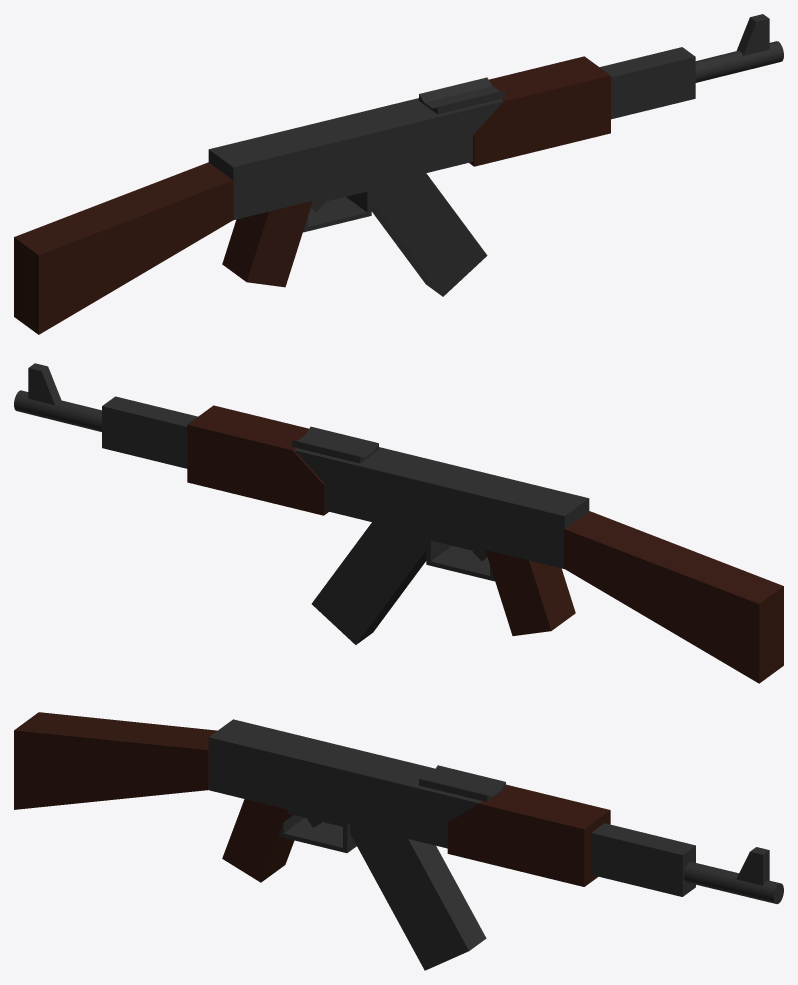
File: MatveyAssaultRifleFull.fbx
The picture shows the model from 3 angles, top to bottom: view 1: azimuth 30°, elevation 25°; view 2: azimuth 150°, elevation 25°; view 3: azimuth 330°, elevation 25°; orthographic projection.
Parts seen in each view (by area): view 1: AssaultRifle, Magazine; view 2: AssaultRifle, Magazine; view 3: AssaultRifle, Magazine.
Part boxes in pixels (left/top/right/bottom): AssaultRifle: left=14, top=14, right=783, bottom=334; Magazine: left=371, top=173, right=487, bottom=296; AssaultRifle: left=14, top=363, right=783, bottom=683; Magazine: left=311, top=522, right=426, bottom=644; AssaultRifle: left=14, top=712, right=783, bottom=903; Magazine: left=350, top=825, right=486, bottom=970.
Size of the model in its own units: 15.42 by 3.77 by 0.9351.
